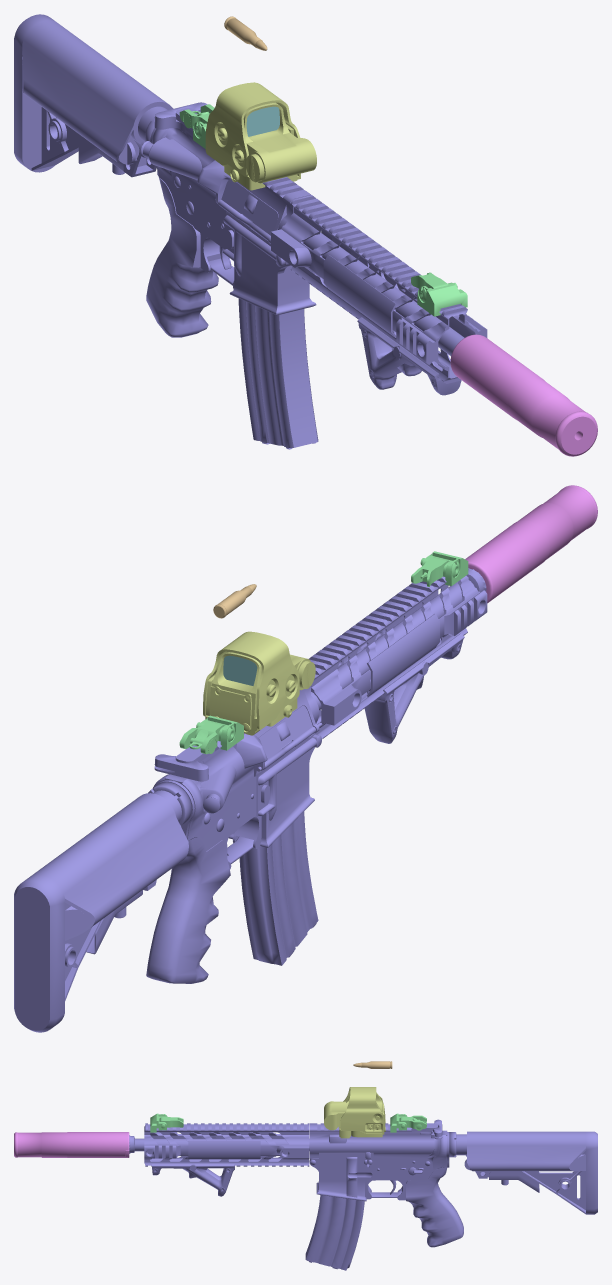
File: WPN_MK18.FBX
3 renders of one model, top to bottom at view 1: azimuth 30°, elevation 25°; view 2: azimuth 150°, elevation 25°; view 3: azimuth 270°, elevation 25°, orthographic. The views are drawn at different scales.
Parts seen in each view (by area): view 1: WPN_MK18, WPN_MK18_magazine, WPN_MK18_silencer, WPN_NavTech, WPN_MK18_Foregrip, WPN_MK18_cover, WPN_Folding_sight_rear_front, WPN_Navtech_lenses, cal_5_56, WPN_Folding_sight_rear_folding; view 2: WPN_MK18, WPN_MK18_magazine, WPN_NavTech, WPN_MK18_silencer, WPN_MK18_Foregrip, WPN_MK18_cover, WPN_Folding_sight_rear_folding, WPN_Navtech_lenses, WPN_Folding_sight_rear_front_folding; view 3: WPN_MK18, WPN_MK18_magazine, WPN_MK18_silencer, WPN_NavTech, WPN_MK18_Foregrip, WPN_Folding_sight_rear_folding.
Part boxes in pixels (x1,y1,x2,y2): WPN_MK18: (14,14,487,383); WPN_MK18_magazine: (238,298,318,449); WPN_MK18_silencer: (450,334,597,456); WPN_NavTech: (205,82,316,190); WPN_MK18_Foregrip: (357,317,461,395); WPN_MK18_cover: (215,178,278,241); WPN_Folding_sight_rear_front: (417,282,467,316); WPN_Navtech_lenses: (246,106,279,136); cal_5_56: (224,16,267,50); WPN_Folding_sight_rear_folding: (179,104,214,138); WPN_MK18: (14,575,487,1032); WPN_MK18_magazine: (239,811,318,965); WPN_NavTech: (203,631,315,735); WPN_MK18_silencer: (465,485,597,603); WPN_MK18_Foregrip: (364,633,464,743); WPN_MK18_cover: (256,705,322,771); WPN_Folding_sight_rear_folding: (179,721,234,754); WPN_Navtech_lenses: (223,655,257,685); WPN_Folding_sight_rear_front_folding: (411,557,459,586); WPN_MK18: (134,1119,597,1247); WPN_MK18_magazine: (305,1195,364,1270); WPN_MK18_silencer: (14,1132,129,1157); WPN_NavTech: (324,1087,385,1138); WPN_MK18_Foregrip: (152,1164,234,1196); WPN_Folding_sight_rear_folding: (399,1114,426,1130).
Bounding box in the file's own units: 6.78 × 33.27 × 85.06.
